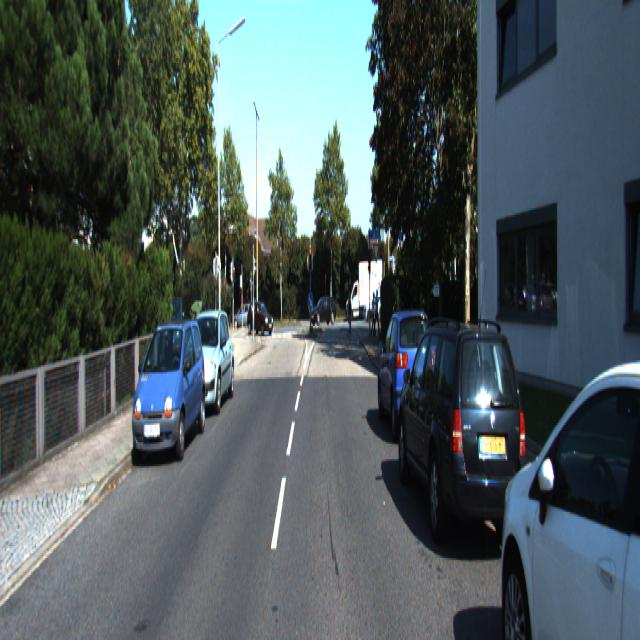Car: (496, 326, 640, 638), (396, 308, 534, 564), (129, 312, 207, 462), (376, 303, 440, 446), (179, 306, 235, 419), (344, 254, 382, 319)
